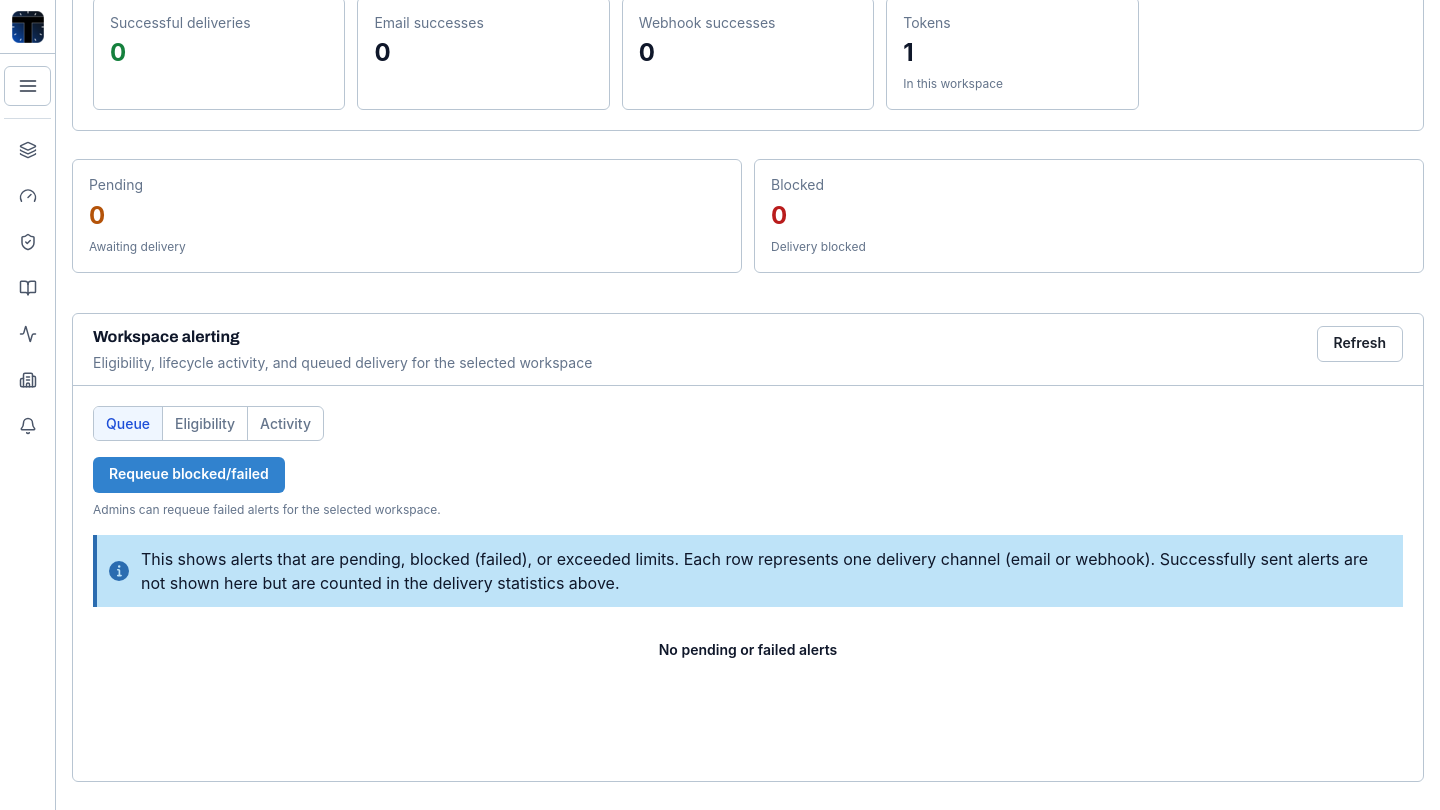
Test: Control Center recent alert activity › keeps eligibility, activity and queue in one panel without losing queue actions
(page scrolled)
Expected: the button "Requeue blocked/failed" is shown, left=93, top=457, right=285, bottom=493
Expected: the button "Refresh" is shown, left=1316, top=326, right=1403, bottom=362
Click the tab with aria-label "Alert eligibility (workspace)". click: (205, 423)
box: left=162, top=407, right=247, bottom=440
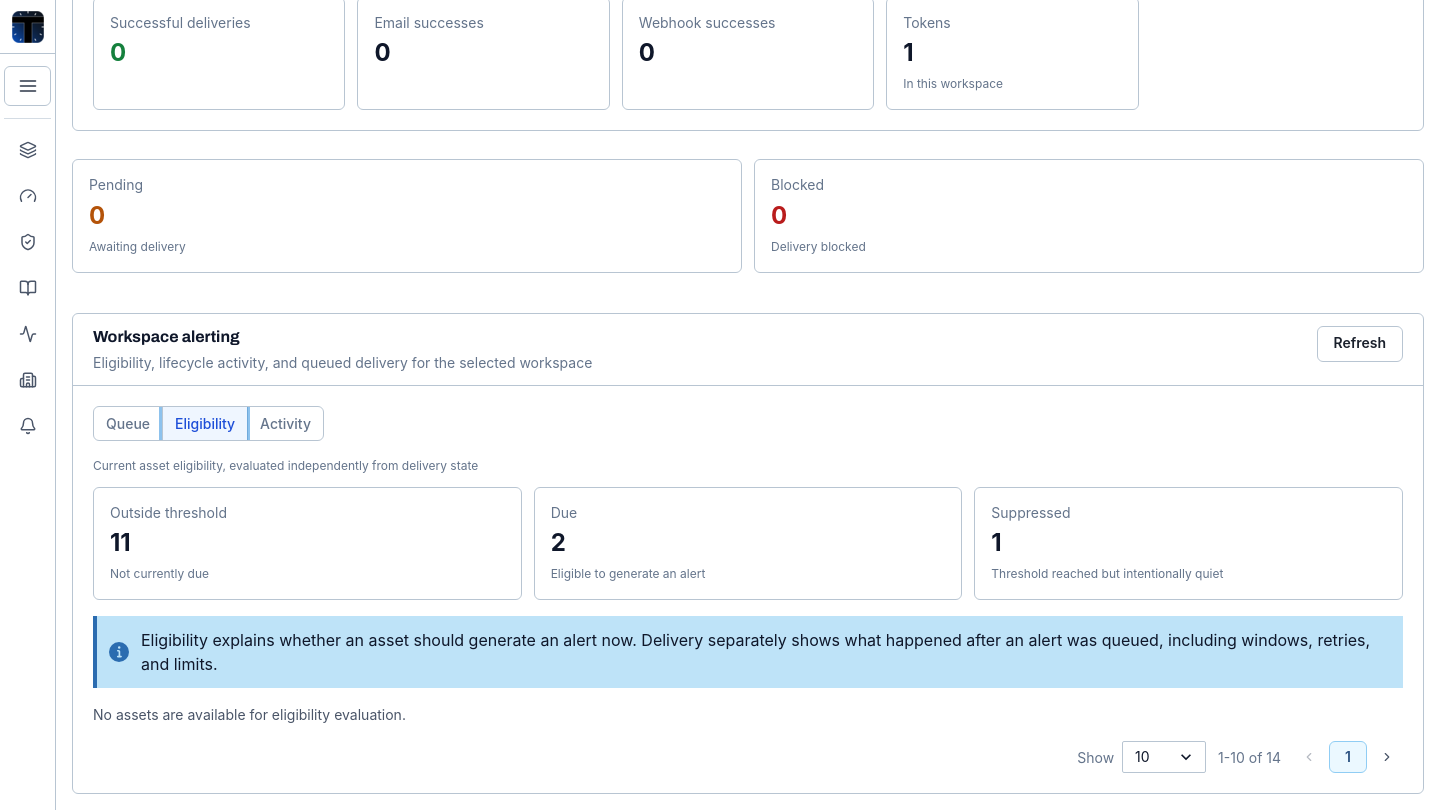
Expected: the text "11" is shown, left=110, top=528, right=131, bottom=557
Expected: the navigation bar named "assets pagination" is shown, left=1077, top=741, right=1403, bottom=773
